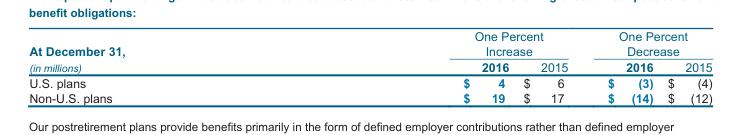table: (28, 28, 711, 104)
table column: (28, 28, 293, 104), (293, 28, 515, 104), (515, 28, 587, 104), (587, 28, 659, 104), (659, 28, 711, 104)
table column header: (28, 28, 711, 74)
table row: (28, 28, 711, 58), (28, 58, 711, 74), (28, 74, 711, 89), (28, 89, 711, 104)
table spanning cell: (28, 28, 293, 74), (293, 28, 587, 58), (587, 28, 711, 58)
